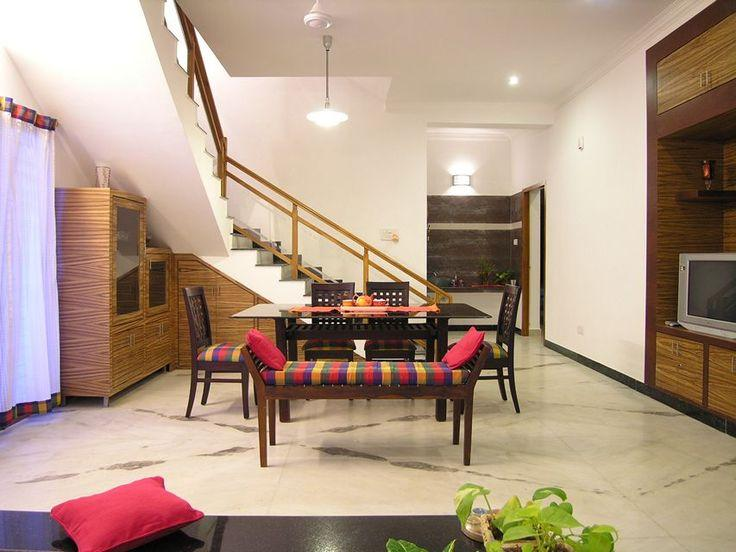TV: (674, 253, 736, 341)
chair: (456, 280, 526, 411), (183, 289, 250, 424)
fan: (277, 1, 360, 37)
light: (300, 34, 349, 131), (443, 161, 481, 196), (507, 73, 523, 86)
sofa: (242, 327, 490, 464)
switchboard: (379, 227, 402, 242)
table: (229, 291, 491, 426), (2, 503, 571, 552)
